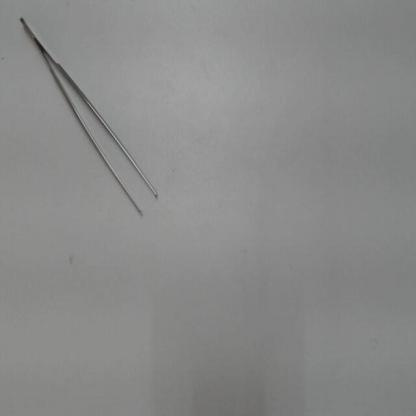Gillies Toothed Dissector: (14, 7, 168, 229)
